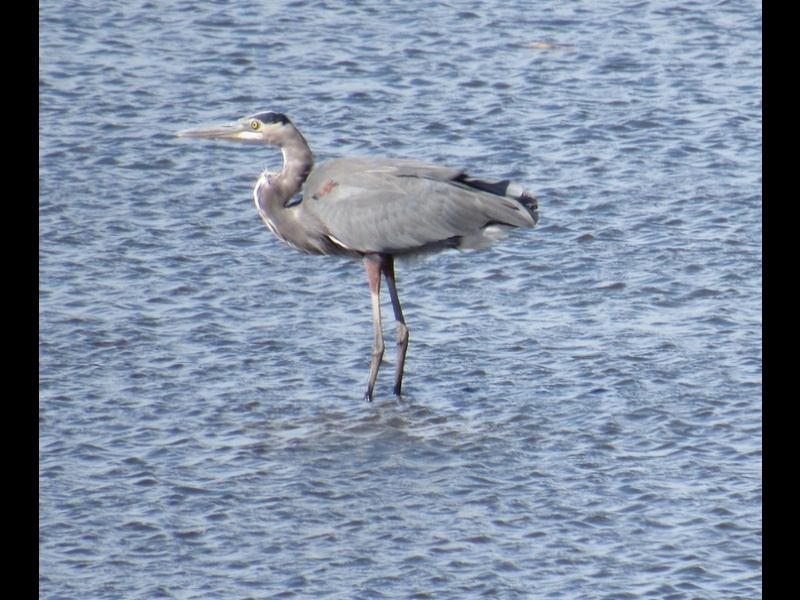heron: (173, 104, 545, 399)
